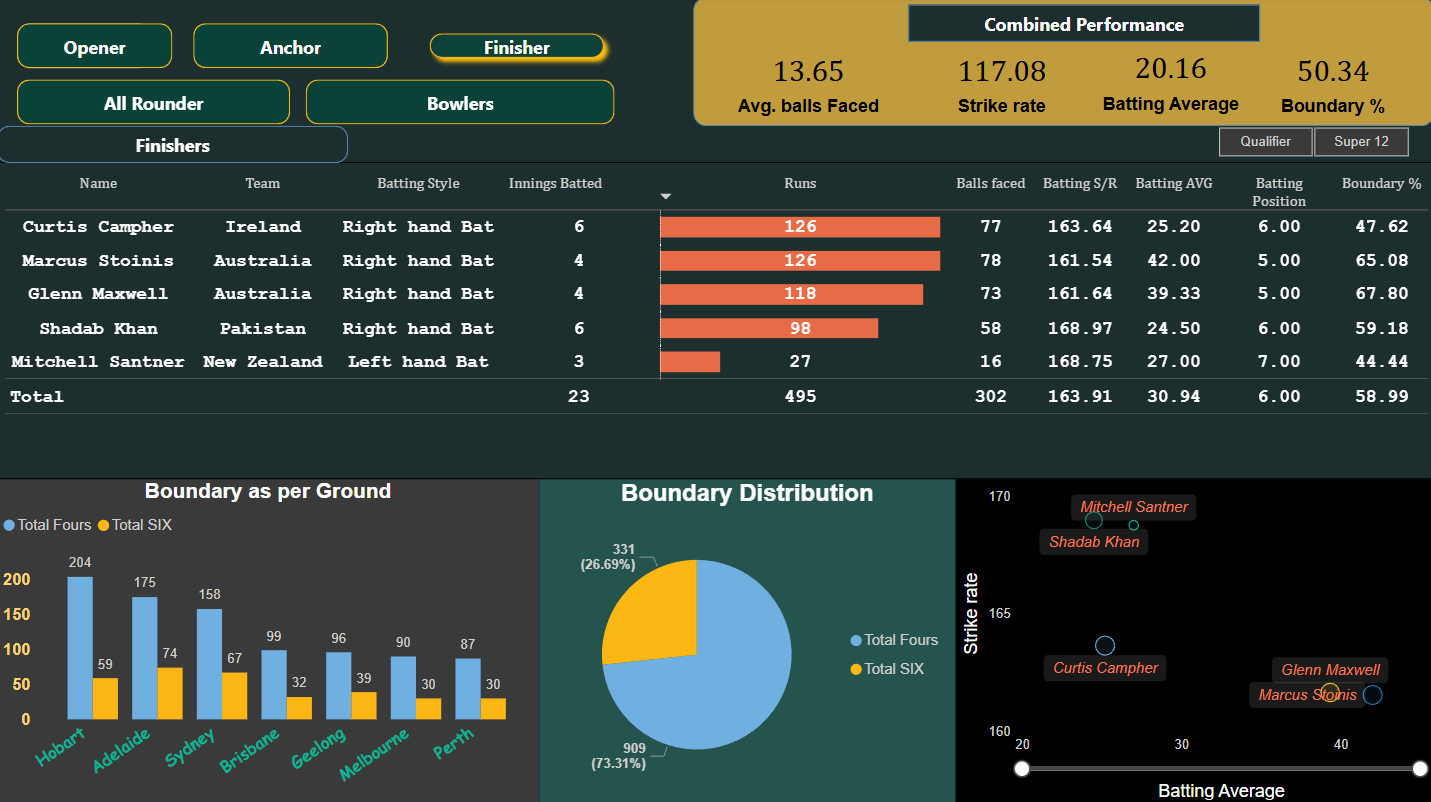

This screenshot's page, from the dashboard's own definition file:
{"tool":"powerbi","page":{"name":"Finisher","canvas":[1280,720],"ordinal":2},"visuals":[{"type":"shape","box":[620,0,660,115],"z":0},{"type":"scatterChart","fields":{"Category":["dim_players.name"],"X":["Key_measures.Batting Average"],"Y":["Key_measures.Strike rate"],"Series":["dim_players.name"],"Size":["Key_measures.Total runs"]},"box":[853.3,429.7,427.2,290.6],"z":1000},{"type":"cardVisual","fields":{"Data":["Key_measures.Batting Average"]},"box":[966.7,38.3,158.3,75],"z":2000},{"type":"cardVisual","fields":{"Data":["Key_measures.Boundary %"]},"box":[1100,40,180,75],"z":3000},{"type":"cardVisual","fields":{"Data":["Key_measures.Strike rate"]},"box":[805,40,180,75],"z":4000},{"type":"cardVisual","fields":{"Data":["Key_measures.Avg. balls Faced"]},"box":[640,40,165,75],"z":5000},{"type":"slicer","fields":{"Values":["dim_match_summary.Stage"]},"box":[1061.5,109.5,219,39.3],"z":6000},{"type":"tableEx","fields":{"Values":["dim_players.name","dim_players.team","dim_players.battingStyle","Key_measures.Total Innings Batted","Key_measures.Total runs","Key_measures.Total balls faced","Key_measures.Strike rate","Key_measures.Batting Average","Key_measures.Batting Position","Key_measures.Boundary %"]},"box":[0,147.4,1280.6,282.2],"z":7000},{"type":"shape","box":[0,114.5,312.7,33.2],"z":8000},{"type":"clusteredColumnChart","title":"Boundary as per Ground","fields":{"Category":["dim_match_summary.ground"],"Y":["Key_measures.Total Fours","Key_measures.Total SIX"]},"box":[0,429.7,482.7,290.6],"z":9000},{"type":"shape","box":[811.7,6.7,313.3,33.3],"z":10000},{"type":"pieChart","title":"Boundary Distribution","fields":{"Y":["Key_measures.Total Fours","Key_measures.Total SIX"]},"box":[483.3,430,370,290],"z":11000},{"type":"actionButton","title":"Op","box":[28.3,23.3,100,40],"z":12000},{"type":"shape","box":[18.3,23.3,138.3,40],"z":13000},{"type":"shape","box":[175,23.3,173.3,40],"z":14000},{"type":"shape","box":[376.7,23.3,173.3,40],"z":15000},{"type":"shape","box":[18.3,73.3,243.3,40],"z":16000},{"type":"shape","box":[275,73.3,275,40],"z":17000}]}

Visuals, with their boxes in screenshot pixels (x1, y1, x2, y2), scaled from the page's 1280x720 canvas onto the 1431x802 screenshot:
shape: box=[693, 0, 1430, 128]
scatterChart - dim_players.name x Key_measures.Batting Average: box=[954, 479, 1430, 801]
cardVisual - Key_measures.Batting Average: box=[1081, 43, 1258, 126]
cardVisual - Key_measures.Boundary %: box=[1230, 45, 1430, 128]
cardVisual - Key_measures.Strike rate: box=[900, 45, 1101, 128]
cardVisual - Key_measures.Avg. balls Faced: box=[716, 45, 900, 128]
slicer - dim_match_summary.Stage: box=[1187, 122, 1430, 166]
tableEx - dim_players.name x dim_players.team: box=[0, 164, 1430, 479]
shape: box=[0, 128, 350, 165]
"Boundary as per Ground" clusteredColumnChart: box=[0, 479, 540, 801]
shape: box=[907, 7, 1258, 45]
"Boundary Distribution" pieChart: box=[540, 479, 954, 801]
"Op" actionButton: box=[32, 26, 143, 71]
shape: box=[20, 26, 175, 71]
shape: box=[196, 26, 389, 71]
shape: box=[421, 26, 615, 71]
shape: box=[20, 82, 292, 126]
shape: box=[307, 82, 615, 126]
